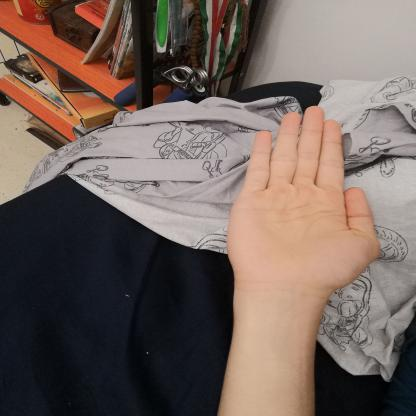SEEN: (218, 99, 386, 301)
